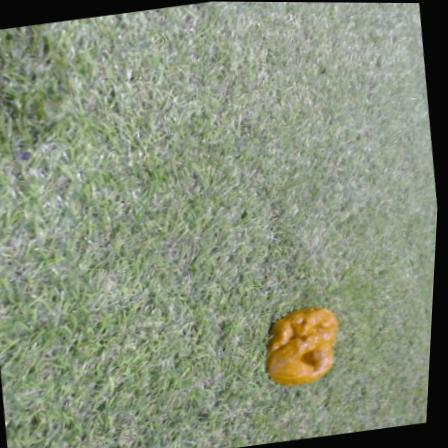dog-poop: (261, 297, 357, 394)
